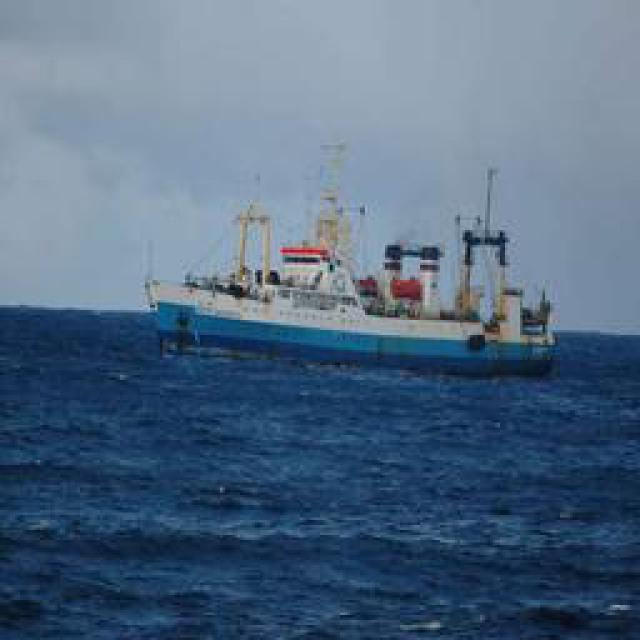Ship: (149, 139, 569, 382)
